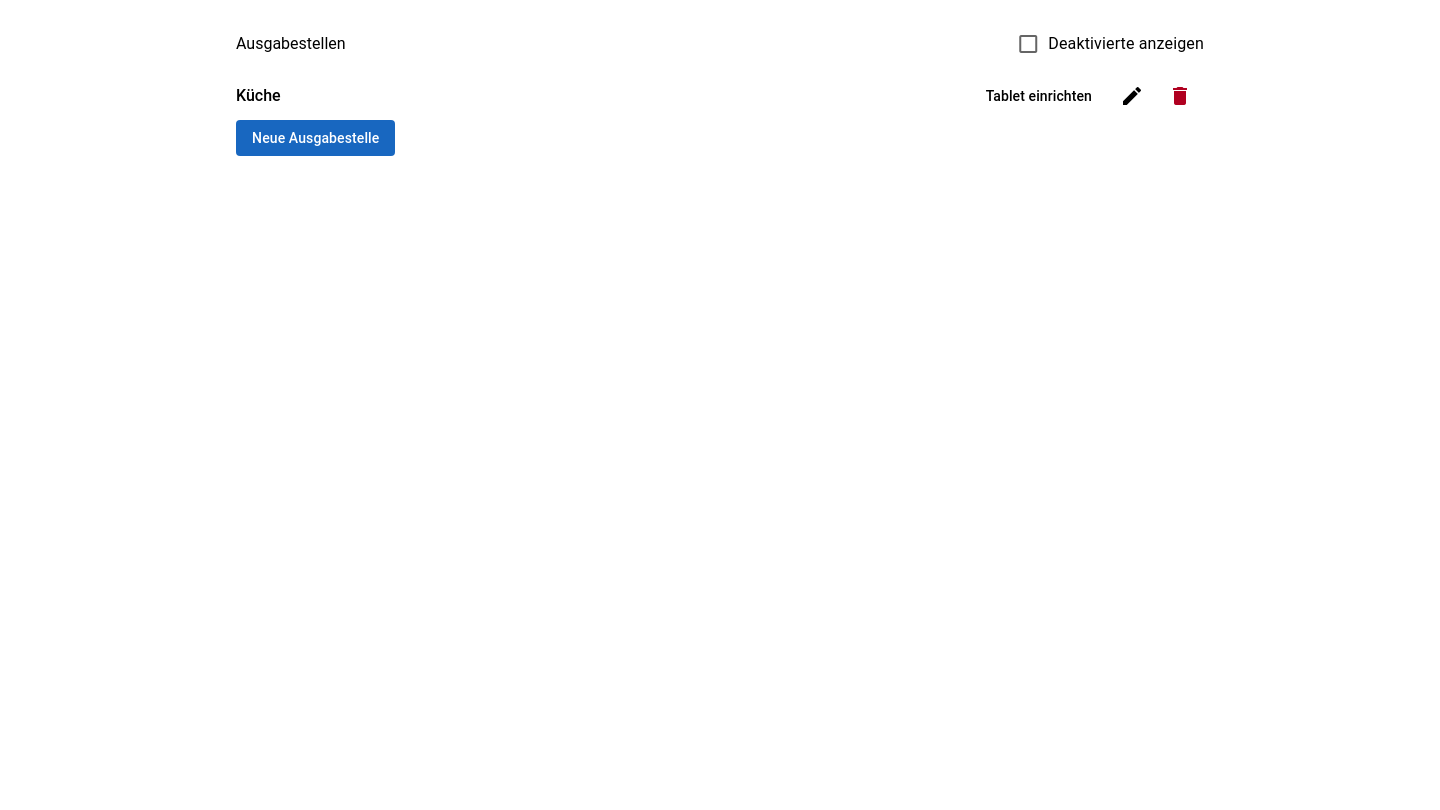
two refusals one after the other › shows the newest one, not the one the admin has already read
The width and height of the screenshot is (1440, 810).
Expected: the element with test id "station-row" is shown, left=236, top=72, right=1204, bottom=120
Click the button with test id "set-up-device" at [1039, 96], box left=970, top=78, right=1108, bottom=114
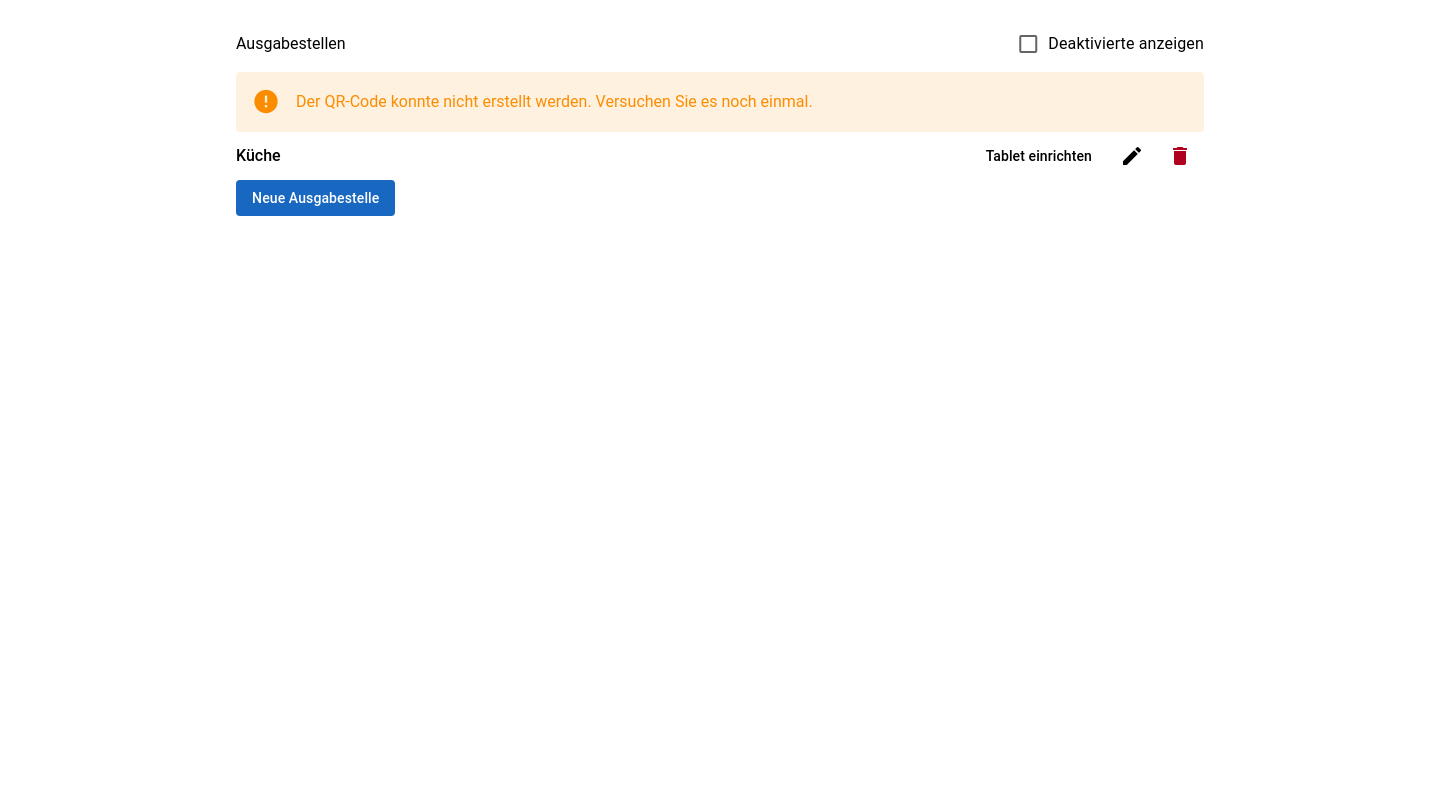
Now the 2nd element with test id "refusal" is shown, box left=236, top=72, right=1204, bottom=132
Click the button with test id "deactivate" at [1180, 156], box left=1156, top=132, right=1204, bottom=180
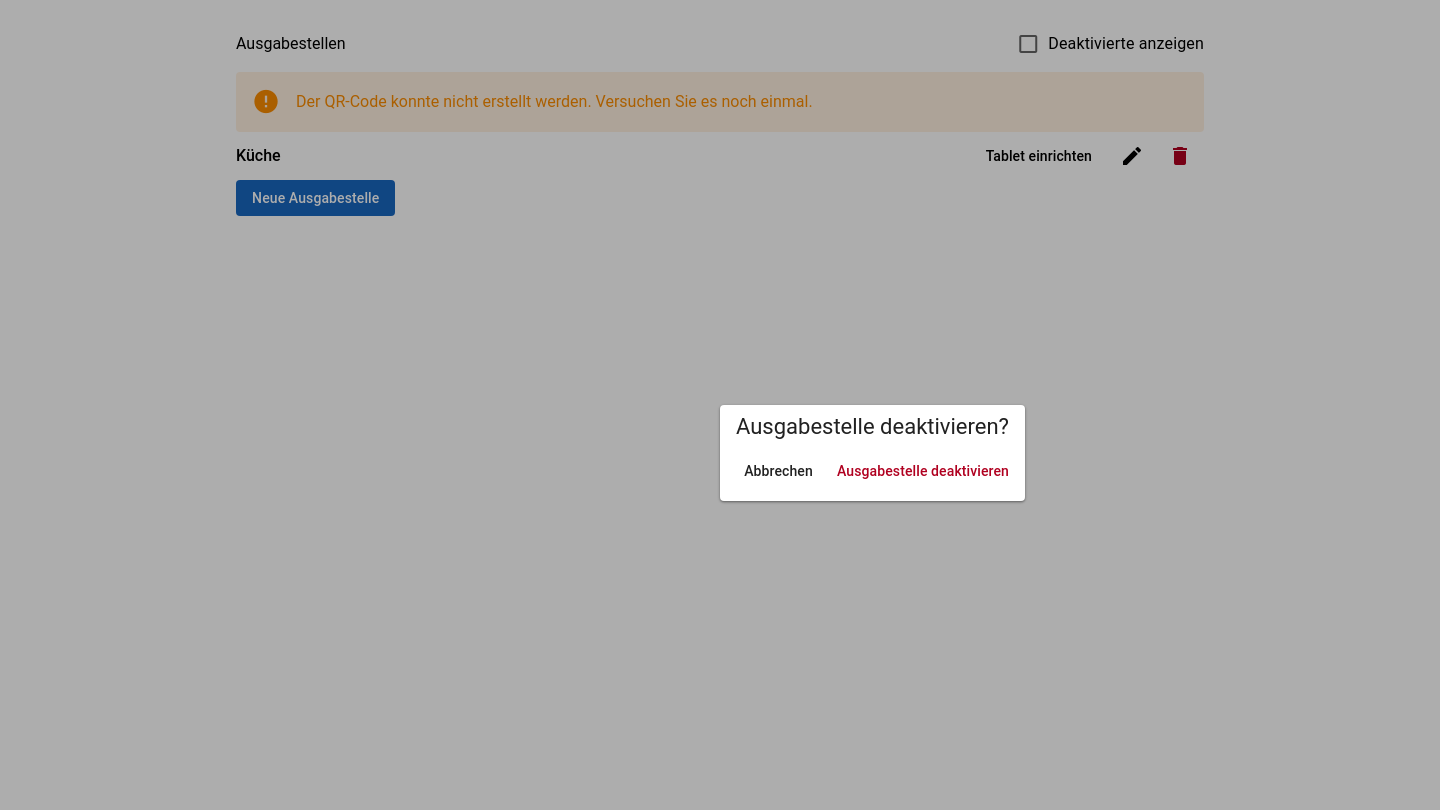
Now the element with test id "confirm-dialog" is shown, box left=720, top=405, right=1025, bottom=501
Click the button with test id "confirm" at [923, 471], box left=829, top=453, right=1017, bottom=489
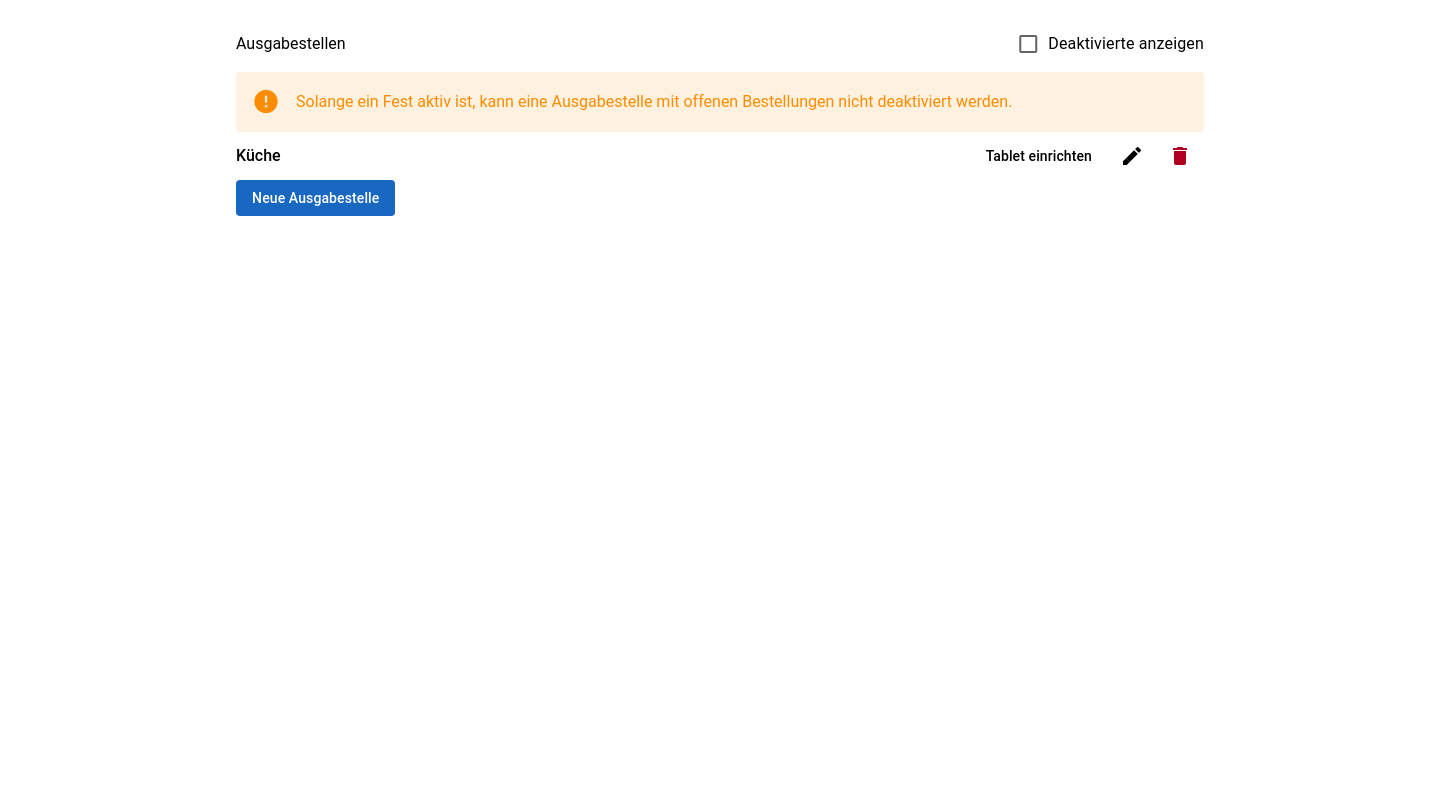
Now the element with test id "refusal" shows "Solange ein Fest aktiv ist, kann eine Ausgabestelle mit offenen Bestellungen nicht deaktiviert werden.", box left=296, top=92, right=1012, bottom=111
